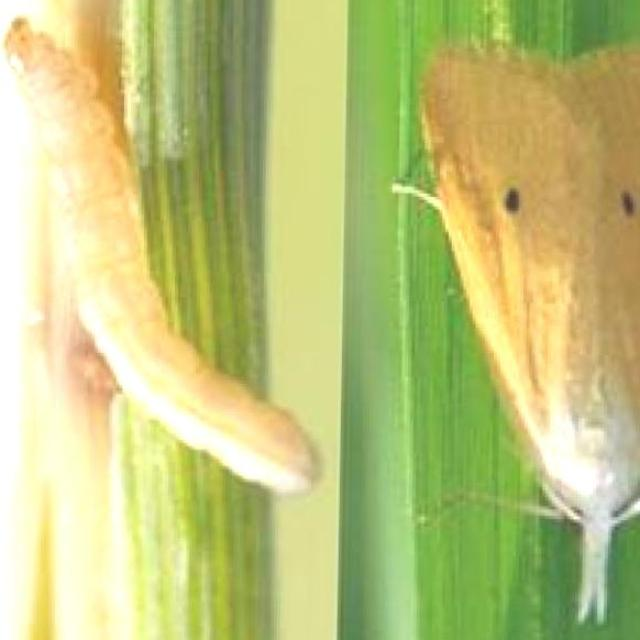stem borer: (4, 20, 318, 494), (393, 49, 640, 622)
